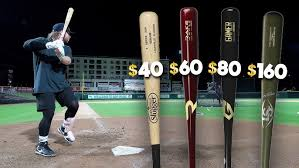baseball bat: (135, 10, 161, 168), (261, 11, 283, 168), (178, 6, 198, 168), (220, 6, 240, 168), (55, 5, 75, 50)
